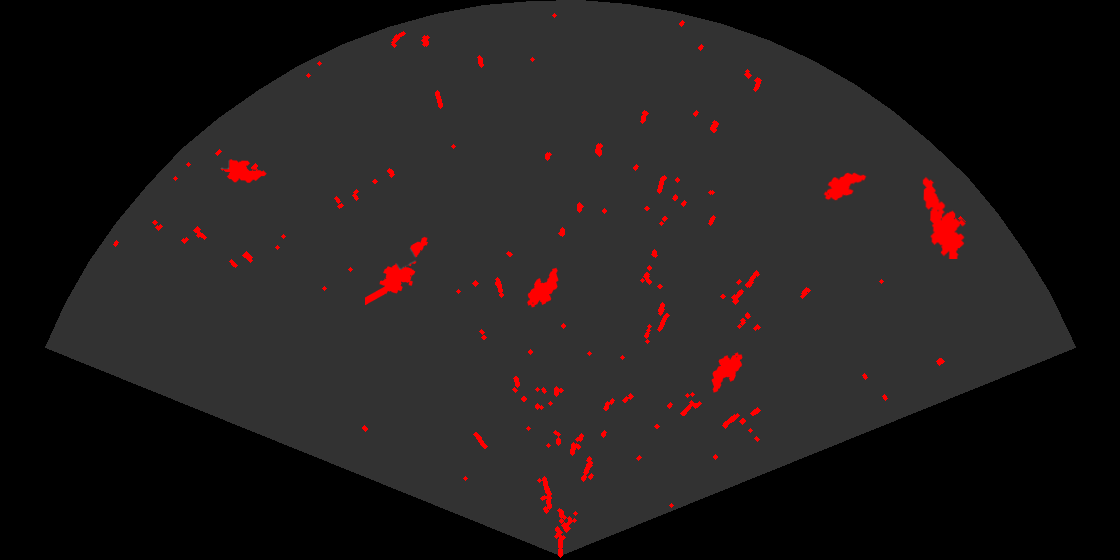AUV: (710, 351, 744, 394), (526, 266, 560, 309), (822, 171, 868, 202), (219, 158, 268, 184)
frogman: (365, 235, 430, 305), (921, 176, 967, 259)
